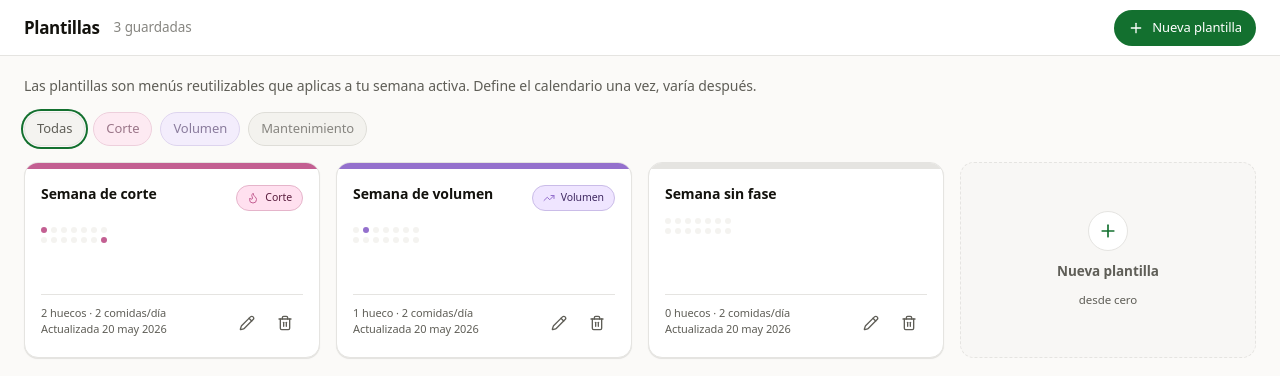
Test: PlantillasPage › picking "Volumen" leaves only the bulk template, and "Todas" brings them all back
Click the radio button labelled "Volumen" at (200, 129), box [160,112,240,146]
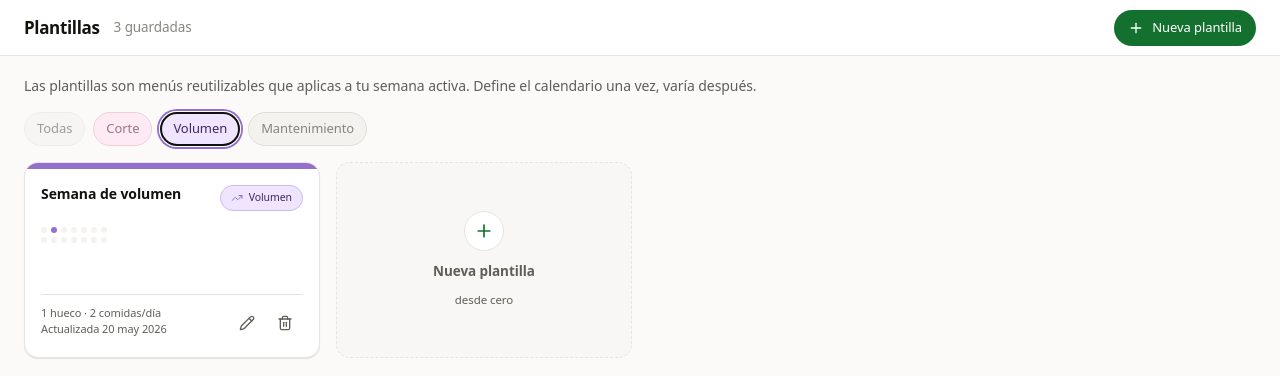
Expected: the link "Semana de volumen" is shown, [41,184,181,202]
Expected: the link "Semana de corte" is gone
Click the radio button labelled "Todas" at (55, 129), box [24,112,85,146]
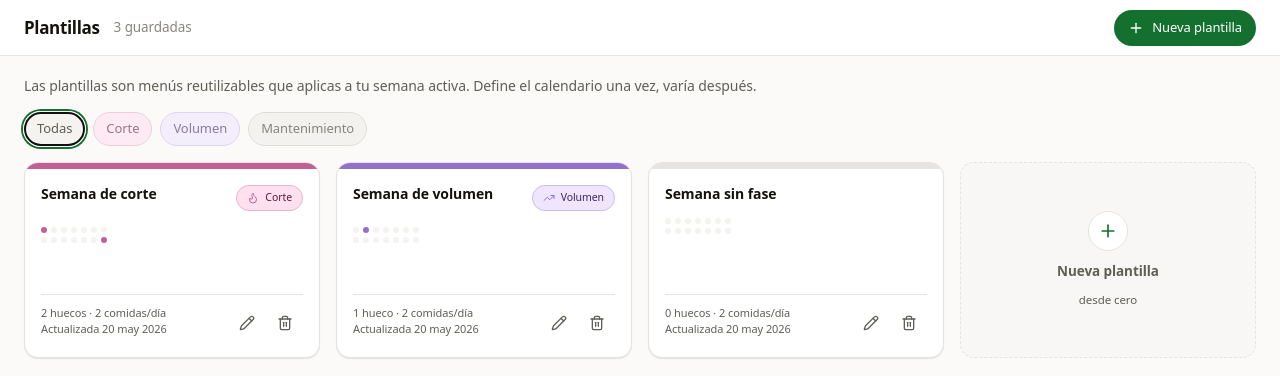
Expected: the link "Semana de volumen" is shown, [353,184,493,202]
Expected: the link "Semana de corte" is shown, [41,184,157,202]
Expected: the link "Semana sin fase" is shown, [665,184,776,202]
